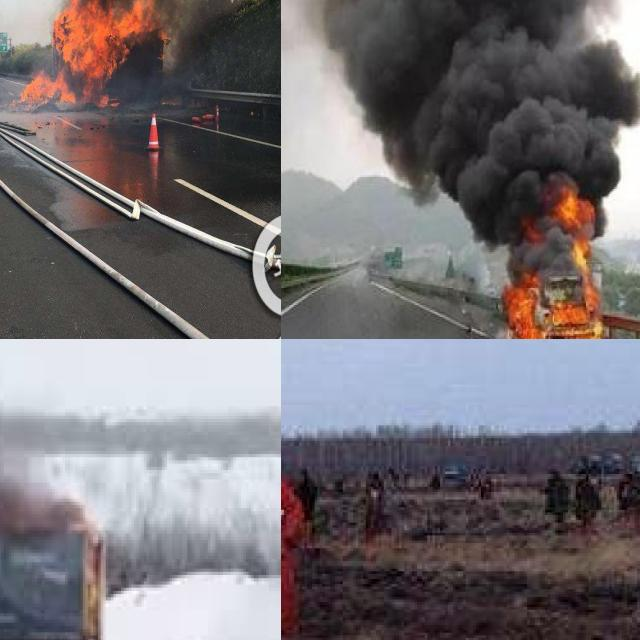fire: (17, 0, 171, 114), (505, 175, 611, 339)
smoke: (281, 0, 640, 262), (0, 380, 70, 524)
